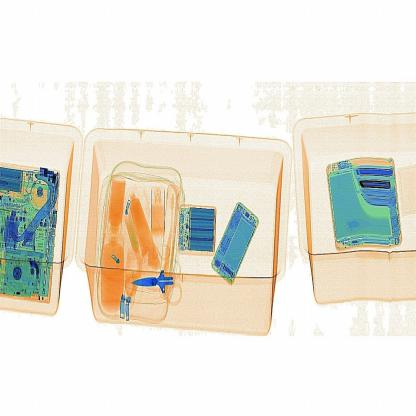gun: (132, 253, 196, 317)
